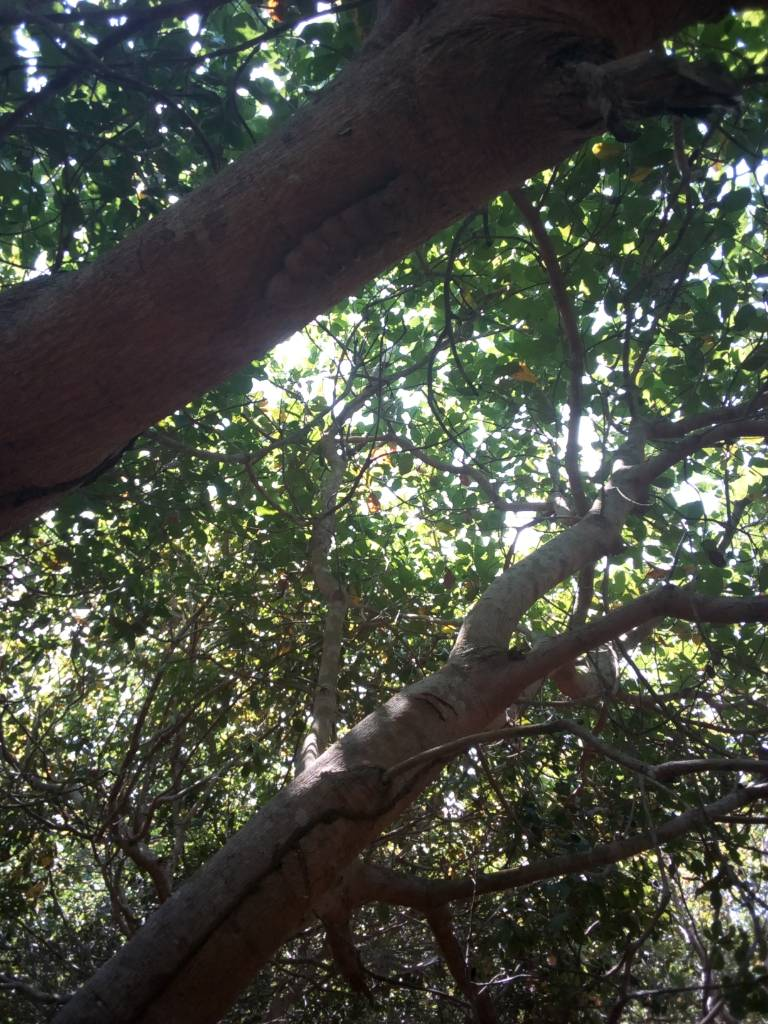Termites: (143, 799, 338, 994)
